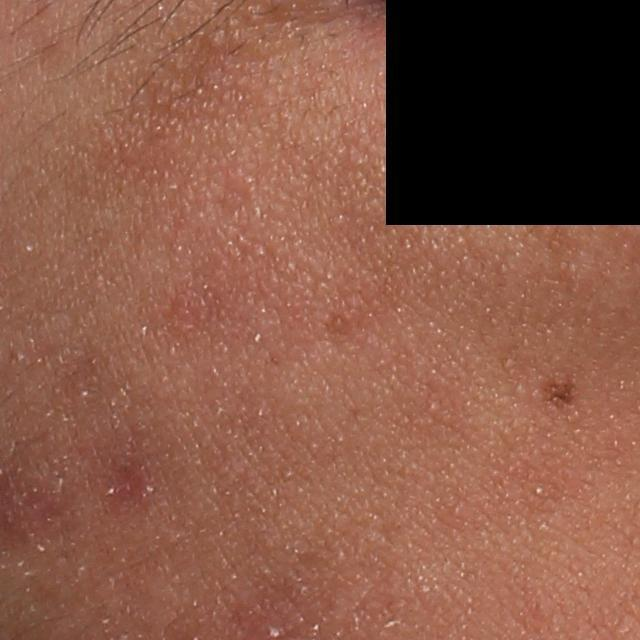nevus: (541, 381, 576, 412)
